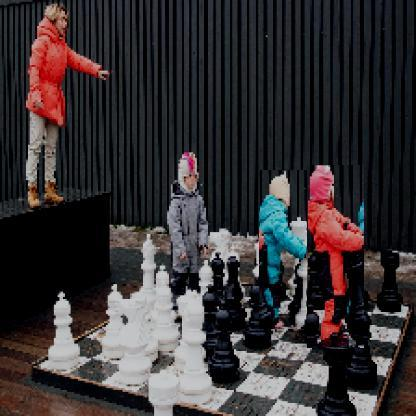child: (308, 166, 366, 350), (260, 171, 314, 331), (167, 152, 210, 295)
